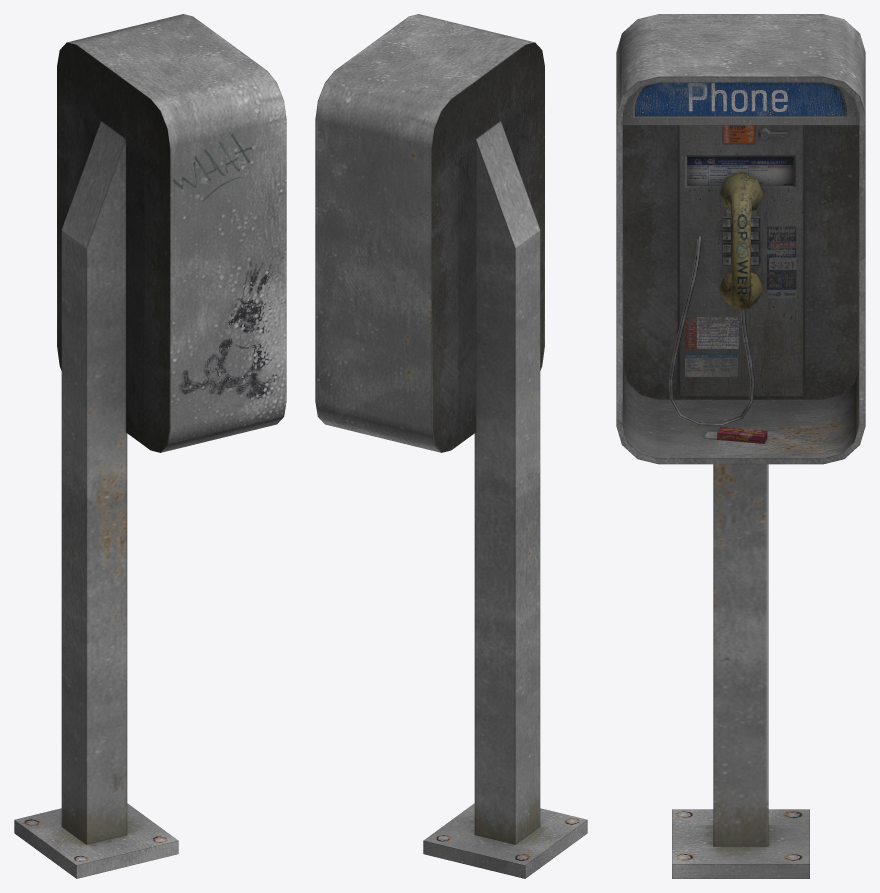
The model's file is phone_booth.fbx.
3 renders of one model, left to right at view 1: azimuth 30°, elevation 25°; view 2: azimuth 150°, elevation 25°; view 3: azimuth 270°, elevation 25°, orthographic. The views are drawn at different scales.
Visible parts, largest first — view 1: Object_2; view 2: Object_2; view 3: Object_2.
Part boxes in pixels (x1=…): Object_2: x1=14, y1=14, x2=286, y2=878; Object_2: x1=315, y1=14, x2=587, y2=878; Object_2: x1=616, y1=14, x2=865, y2=878.
Bounding box in the file's own units: 1.21 × 4.82 × 1.29.
Materials: 1 (1 with a texture image).
